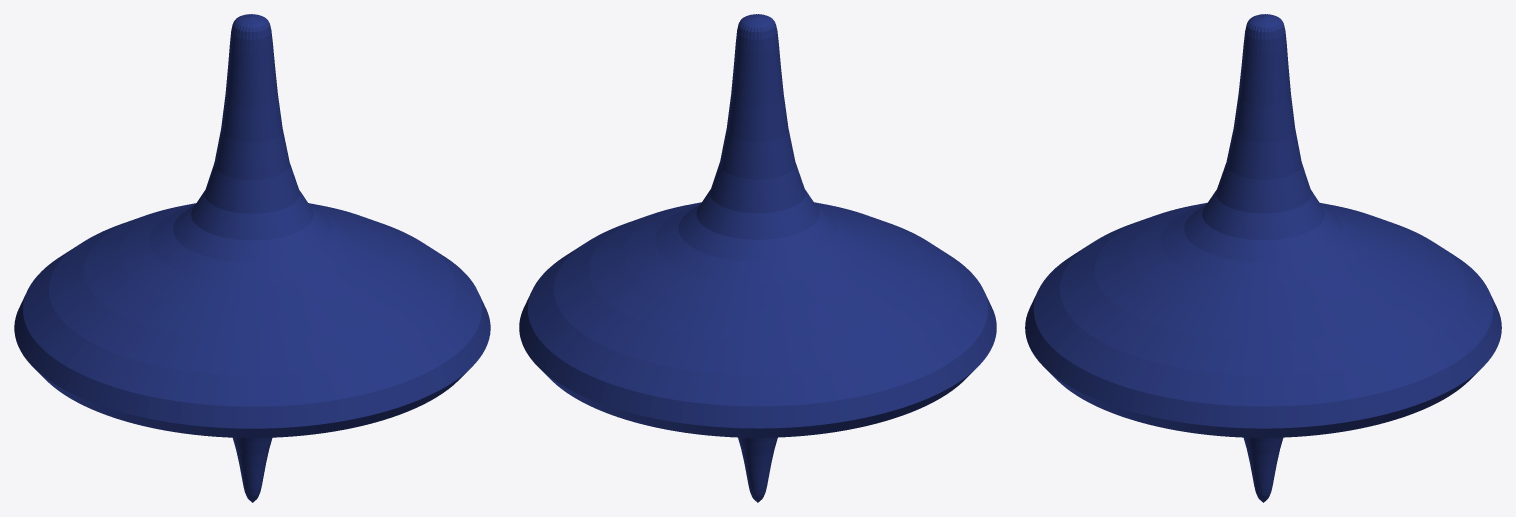
The model's file is spining top.fbx.
The picture shows the model from 3 angles, left to right: view 1: azimuth 30°, elevation 25°; view 2: azimuth 150°, elevation 25°; view 3: azimuth 270°, elevation 25°; orthographic projection.
Visible parts, largest first — view 1: 柱体; view 2: 柱体; view 3: 柱体.
Boxes of the visible parts, x1,y1,x2,y2 form: 柱体: [14, 14, 490, 502]; 柱体: [519, 14, 996, 502]; 柱体: [1025, 14, 1501, 502].
Bounding box in the file's own units: 187 × 211 × 187.
